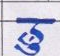u_matra: (15, 43, 42, 55)
